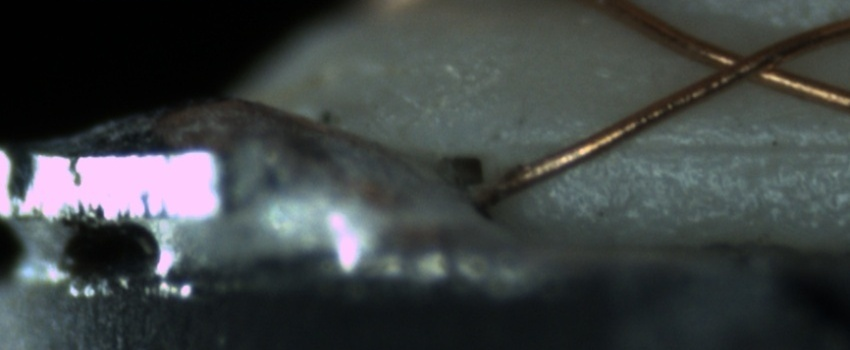CL: (686, 35, 806, 92)
DL: (533, 115, 849, 175)
